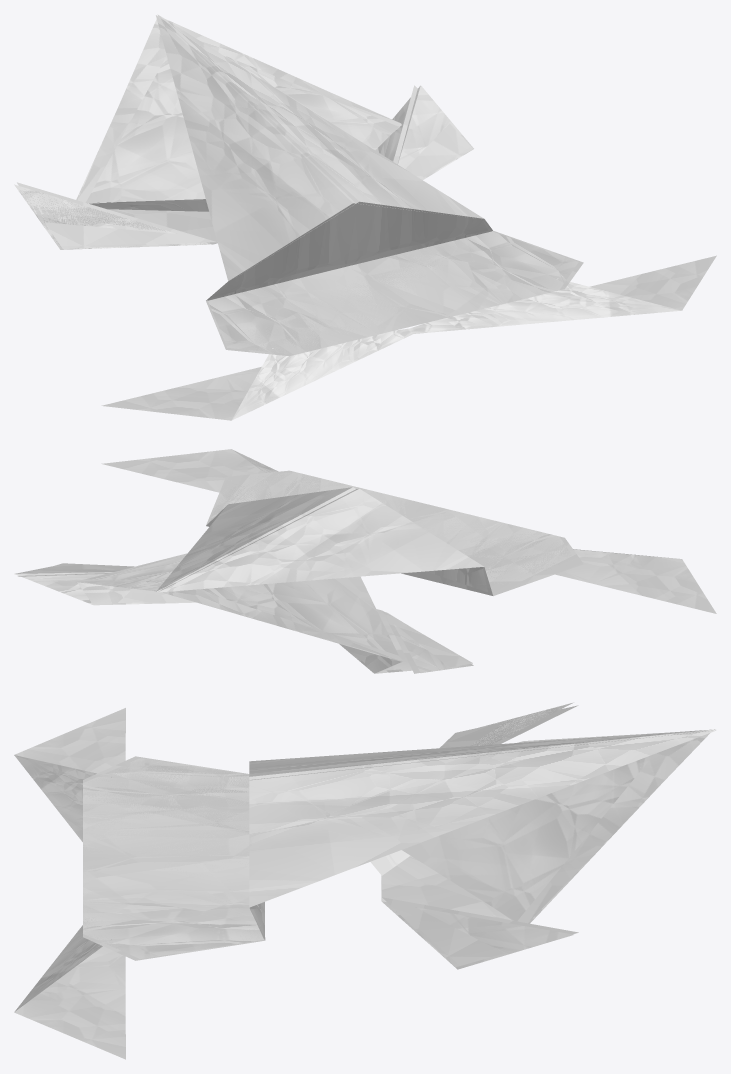
Rendered from PaperFrog.fbx.
The picture shows the model from 3 angles, top to bottom: view 1: azimuth 30°, elevation 25°; view 2: azimuth 150°, elevation 25°; view 3: azimuth 270°, elevation 25°; orthographic projection. The views are drawn at different scales.
Parts seen in each view (by area): view 1: Plane.002; view 2: Plane.002; view 3: Plane.002.
Boxes of the visible parts, x1=… form: Plane.002: x1=14, y1=14, x2=716, y2=420; Plane.002: x1=14, y1=449, x2=716, y2=673; Plane.002: x1=14, y1=702, x2=716, y2=1059.
Bounding box in the file's own units: 491 × 100 × 414.
Materials: 1 (1 with a texture image).
